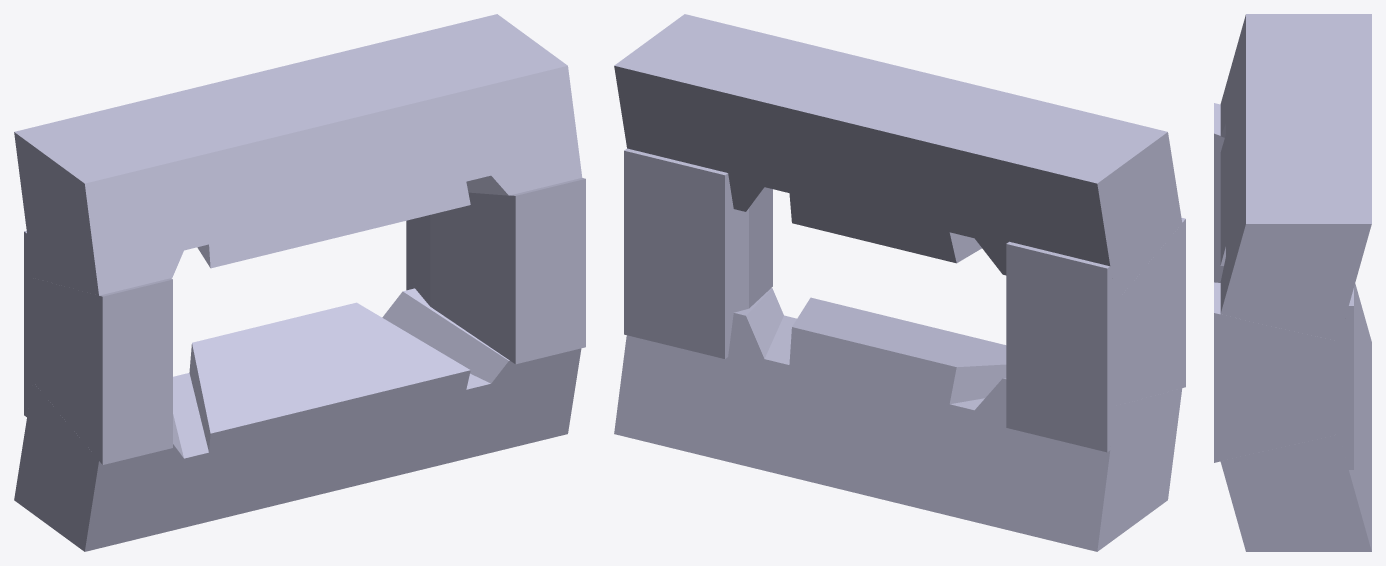
File: LHCb_run3_MagnetCover.gltf
The picture shows the model from 3 angles, left to right: view 1: azimuth 30°, elevation 25°; view 2: azimuth 150°, elevation 25°; view 3: azimuth 270°, elevation 25°; orthographic projection. The views are drawn at different scales.
Parts seen in each view (by area): view 1: _dd_Structure_LHCb_MagnetRegion_Magnet_Upper_Horizontal_Part, _dd_Structure_LHCb_MagnetRegion_Magnet_Lower_Horizontal_Part, _dd_Structure_LHCb_MagnetRegion_Magnet_Right_Vertical_Part0x, _dd_Structure_LHCb_MagnetRegion_Magnet_Left_Vertical_Part0x1; view 2: _dd_Structure_LHCb_MagnetRegion_Magnet_Upper_Horizontal_Part, _dd_Structure_LHCb_MagnetRegion_Magnet_Lower_Horizontal_Part, _dd_Structure_LHCb_MagnetRegion_Magnet_Left_Vertical_Part0x1, _dd_Structure_LHCb_MagnetRegion_Magnet_Right_Vertical_Part0x; view 3: _dd_Structure_LHCb_MagnetRegion_Magnet_Upper_Horizontal_Part, _dd_Structure_LHCb_MagnetRegion_Magnet_Right_Vertical_Part0x, _dd_Structure_LHCb_MagnetRegion_Magnet_Lower_Horizontal_Part, _dd_Structure_LHCb_MagnetRegion_Magnet_Left_Vertical_Part0x1.
Part boxes in pixels (bbox=[...]): _dd_Structure_LHCb_MagnetRegion_Magnet_Upper_Horizontal_Part: bbox=[14, 14, 582, 295]; _dd_Structure_LHCb_MagnetRegion_Magnet_Lower_Horizontal_Part: bbox=[14, 288, 581, 551]; _dd_Structure_LHCb_MagnetRegion_Magnet_Right_Vertical_Part0x: bbox=[406, 178, 585, 364]; _dd_Structure_LHCb_MagnetRegion_Magnet_Left_Vertical_Part0x1: bbox=[24, 231, 172, 464]; _dd_Structure_LHCb_MagnetRegion_Magnet_Upper_Horizontal_Part: bbox=[614, 14, 1182, 301]; _dd_Structure_LHCb_MagnetRegion_Magnet_Lower_Horizontal_Part: bbox=[614, 288, 1182, 551]; _dd_Structure_LHCb_MagnetRegion_Magnet_Left_Vertical_Part0x1: bbox=[1006, 217, 1185, 452]; _dd_Structure_LHCb_MagnetRegion_Magnet_Right_Vertical_Part0x: bbox=[624, 148, 772, 358]; _dd_Structure_LHCb_MagnetRegion_Magnet_Upper_Horizontal_Part: bbox=[1220, 14, 1371, 341]; _dd_Structure_LHCb_MagnetRegion_Magnet_Right_Vertical_Part0x: bbox=[1214, 282, 1353, 469]; _dd_Structure_LHCb_MagnetRegion_Magnet_Lower_Horizontal_Part: bbox=[1220, 283, 1371, 551]; _dd_Structure_LHCb_MagnetRegion_Magnet_Left_Vertical_Part0x1: bbox=[1214, 103, 1224, 282].
Bounding box in the file's own units: 11000 × 8012 × 3493.
